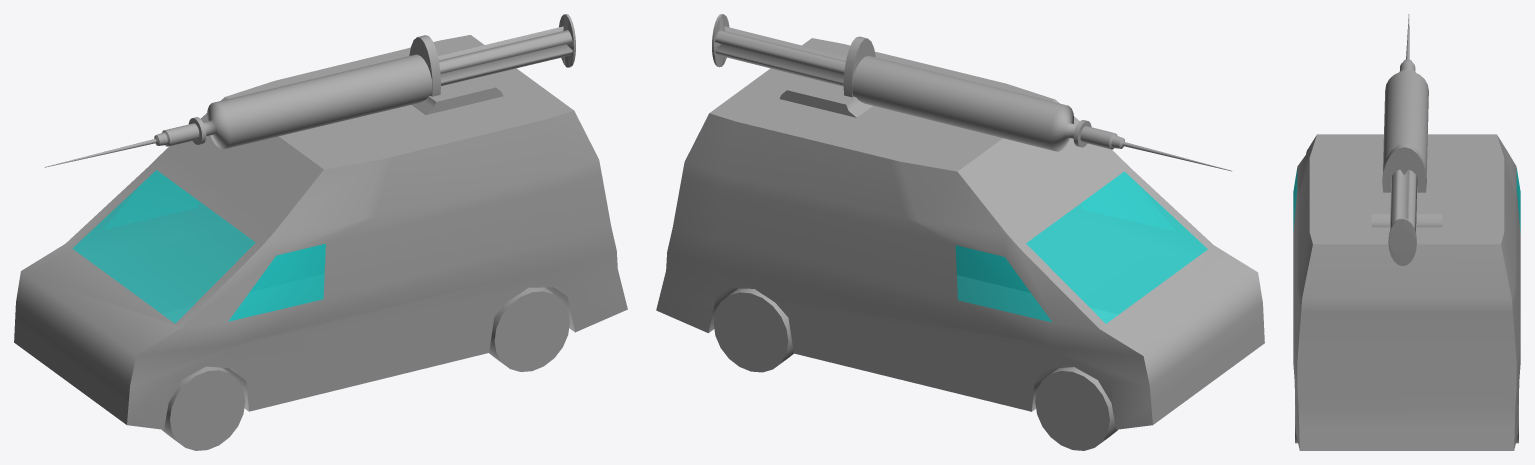
The model's file is ambulance.fbx.
3 renders of one model, left to right at view 1: azimuth 30°, elevation 25°; view 2: azimuth 150°, elevation 25°; view 3: azimuth 270°, elevation 25°, orthographic. The views are drawn at different scales.
Visible parts, largest first — view 1: pCube1, pasted__group1_pasted__pCylinder5, pCylinder2, pCylinder1, pCube2; view 2: pCube1, pasted__group1_pasted__pCylinder5, pCylinder4, pCylinder3, pCube2; view 3: pCube1, pasted__group1_pasted__pCylinder5, pCube2.
Boxes of the visible parts, bbox=[...] form: pCube1: bbox=[14, 35, 627, 429]; pasted__group1_pasted__pCylinder5: bbox=[44, 14, 575, 167]; pCylinder2: bbox=[489, 287, 569, 371]; pCylinder1: bbox=[162, 366, 245, 450]; pCube2: bbox=[411, 77, 503, 114]; pCube1: bbox=[656, 38, 1264, 429]; pasted__group1_pasted__pCylinder5: bbox=[712, 14, 1231, 171]; pCylinder4: bbox=[1035, 367, 1117, 450]; pCylinder3: bbox=[713, 288, 793, 372]; pCube2: bbox=[779, 77, 872, 117]; pCube1: bbox=[1293, 134, 1520, 450]; pasted__group1_pasted__pCylinder5: bbox=[1382, 14, 1428, 266]; pCube2: bbox=[1371, 188, 1442, 227].
Bounding box in the file's own units: 2.1 × 1.15 × 0.868.
